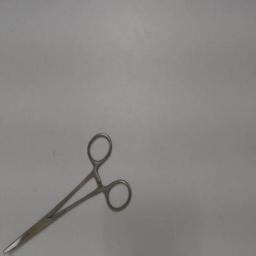Crile Artery Forceps: (1, 128, 135, 254)
